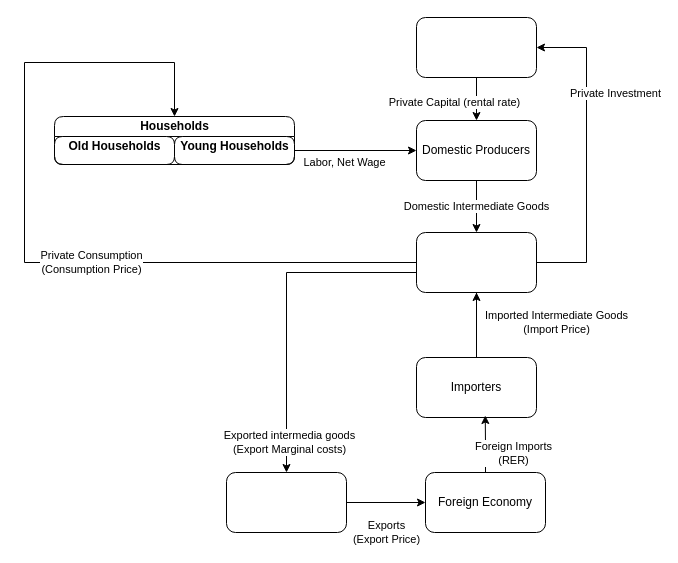
The diagram is 678 pixels wide and 563 high, and some of its shapes have lost their labels. The centre of each missing label's shape, as x and y in pixels:
Exporters: the point at 286,502
Private Capital Producers: the point at 476,47
Retailers: the point at 476,262
